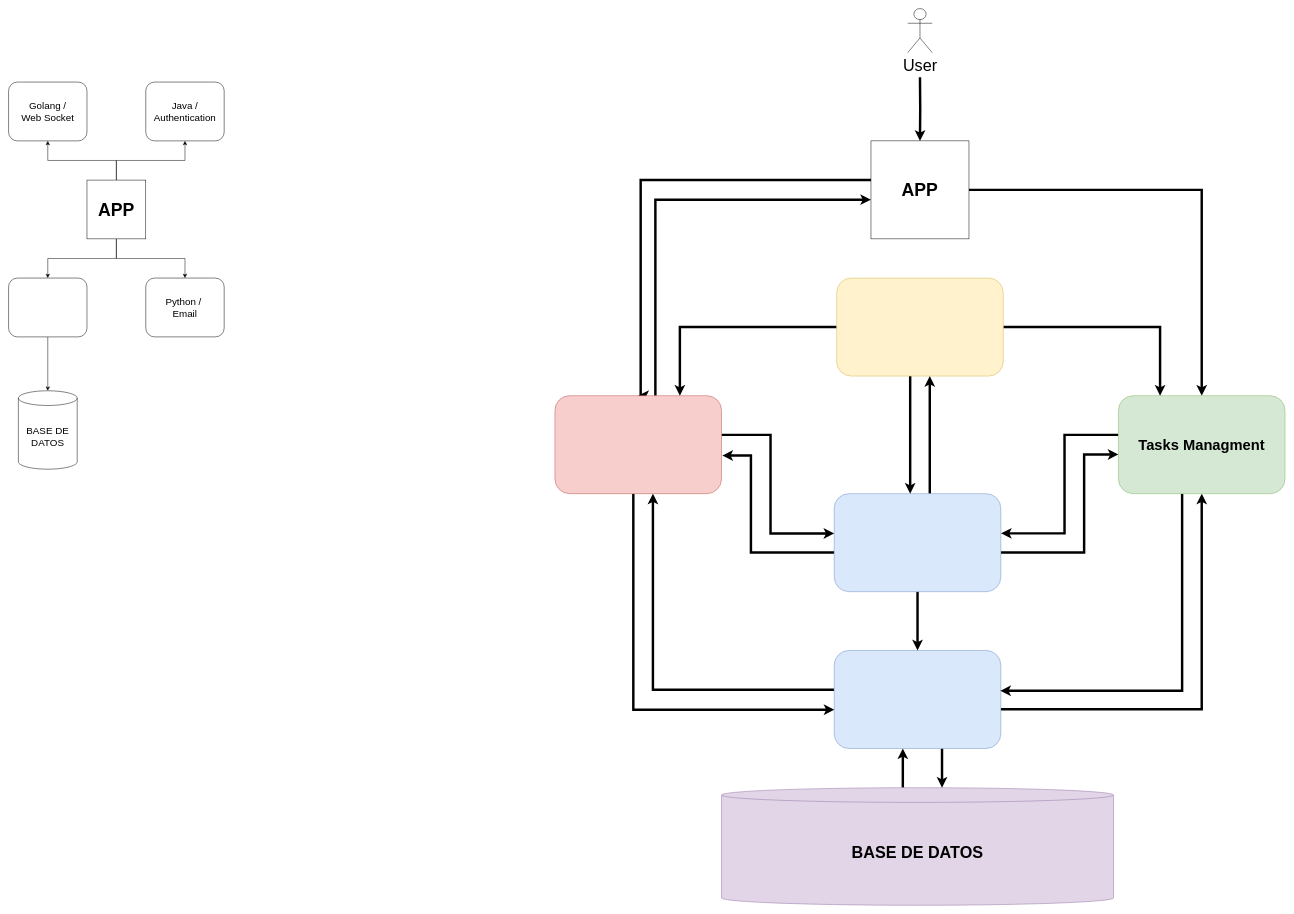
Image size: 1294x914. Some labels were removed from this diagram. The shapes that lost their labels are listed below. From the top down, each one's centre as x and y in pixels, then its label:
point 47,307: NodeJS / Comunicacion con BBDD
point 919,327: Emails Support
point 638,444: User Auth
point 917,542: Microservice Auth
point 917,699: Capa de Persistencia
